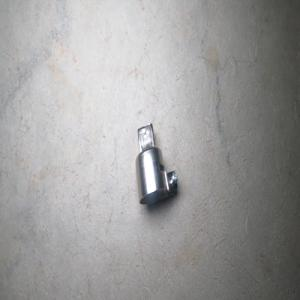MetalPart: (134, 122, 178, 205)
